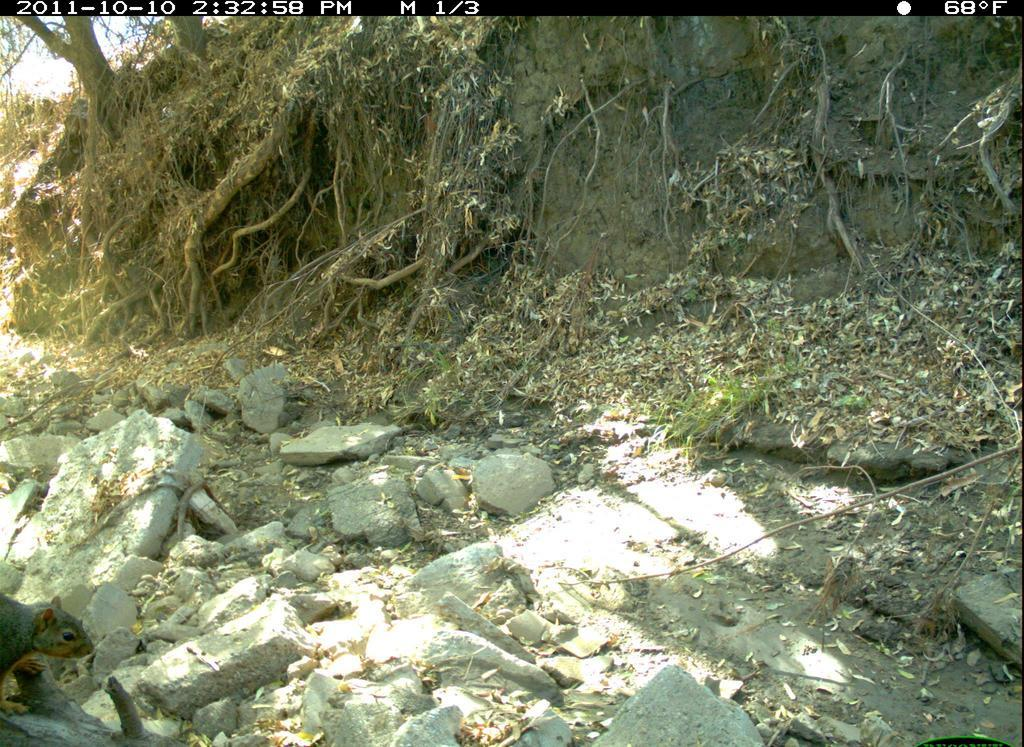squirrel: (1, 565, 108, 702)
